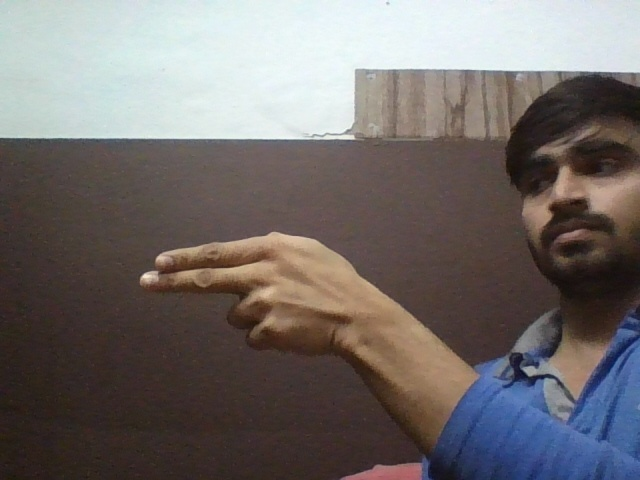H: (131, 227, 375, 378)
